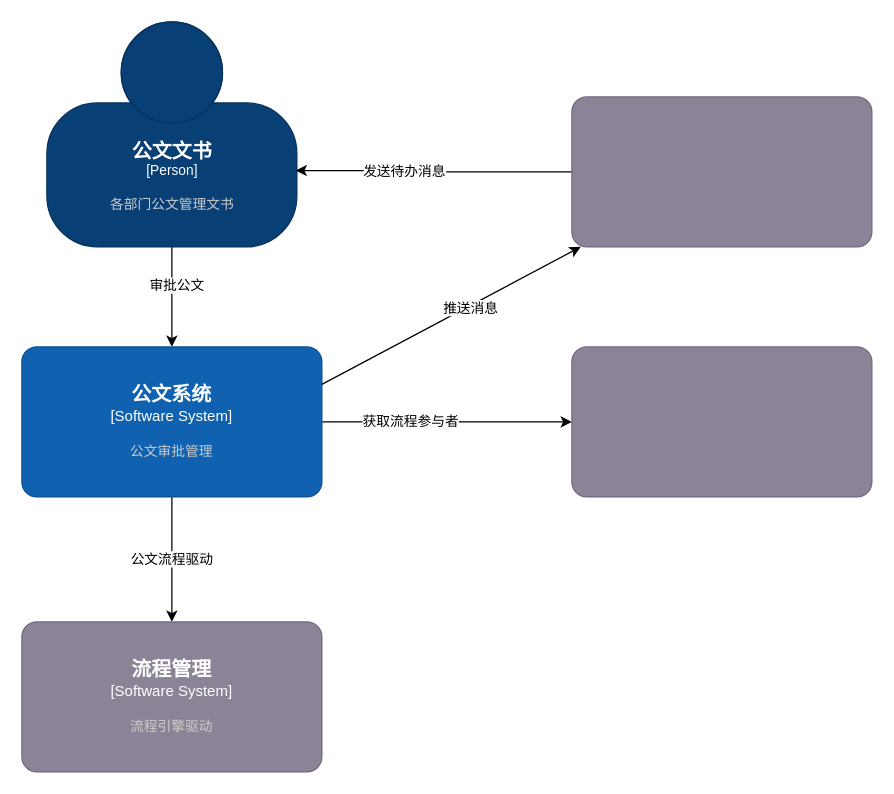
Some shapes in this 894 by 794 pixel diagram are drawn without their labels. Each missing label, with the box of its shape:
HR系统 [Software System] 组织机构及人员: (571, 346, 872, 497)
消息中心 [Software System] 微信、短信、邮件通知: (571, 96, 872, 247)
